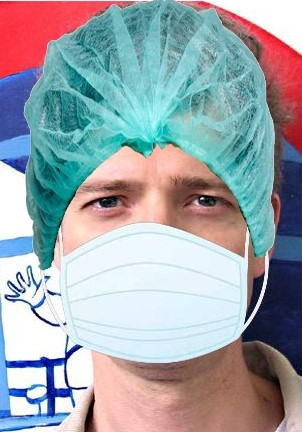with_mask_and_cap: (31, 4, 281, 366)
